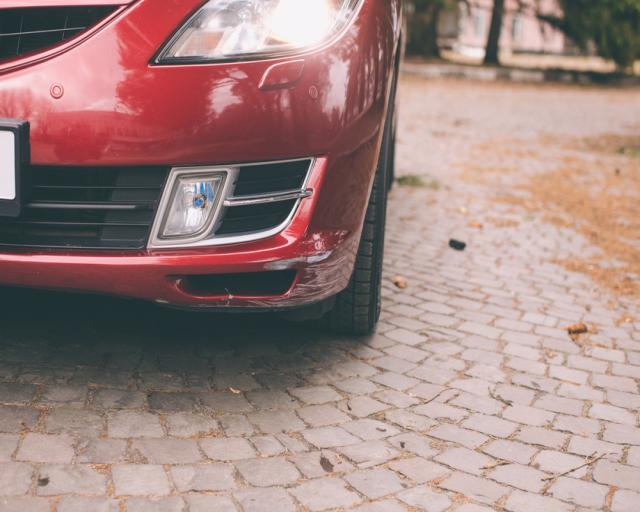scratch: (238, 235, 359, 311)
